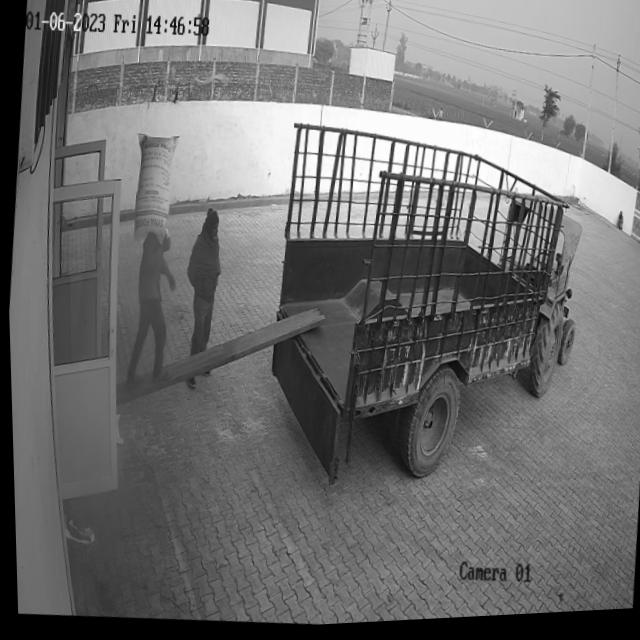sack: (129, 132, 180, 237)
